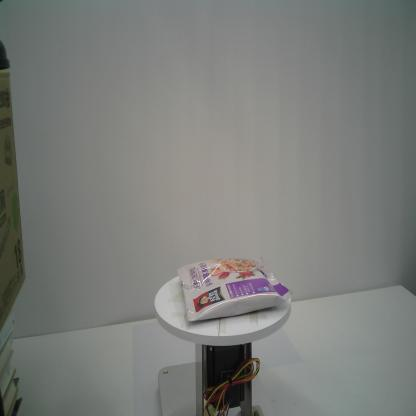Instant Drink: (176, 256, 294, 322)
